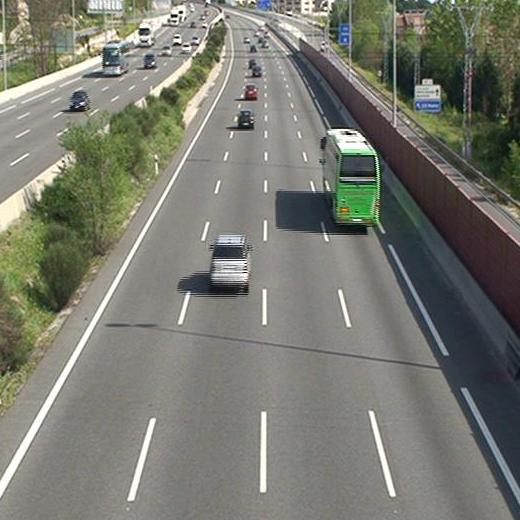bus: (320, 128, 381, 227)
car: (210, 234, 254, 289), (237, 109, 253, 129), (244, 84, 258, 100), (252, 66, 262, 77), (247, 58, 257, 68)
